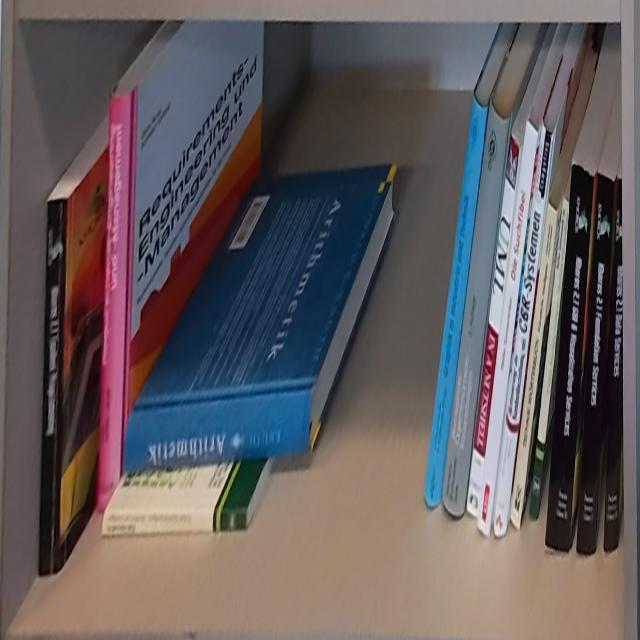Book Spine: (442, 103, 510, 516), (423, 95, 489, 507), (476, 122, 538, 536), (493, 124, 554, 537), (466, 135, 520, 518), (545, 162, 594, 553), (123, 388, 313, 472), (510, 204, 556, 531), (97, 93, 131, 512), (577, 172, 614, 557), (529, 199, 569, 519), (38, 200, 68, 576), (604, 178, 623, 553), (102, 509, 247, 535)
